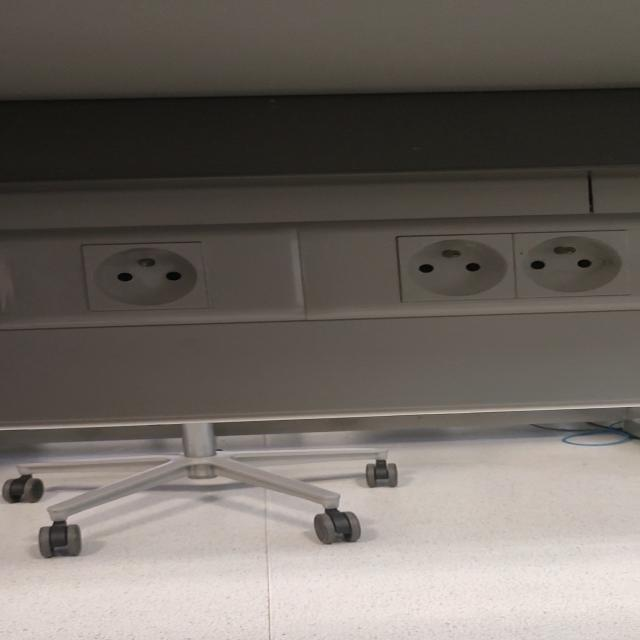house plug: (80, 242, 216, 313), (396, 232, 521, 304), (510, 229, 628, 300)
